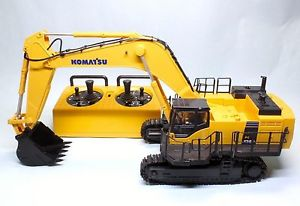backhoe: (13, 29, 294, 190)
